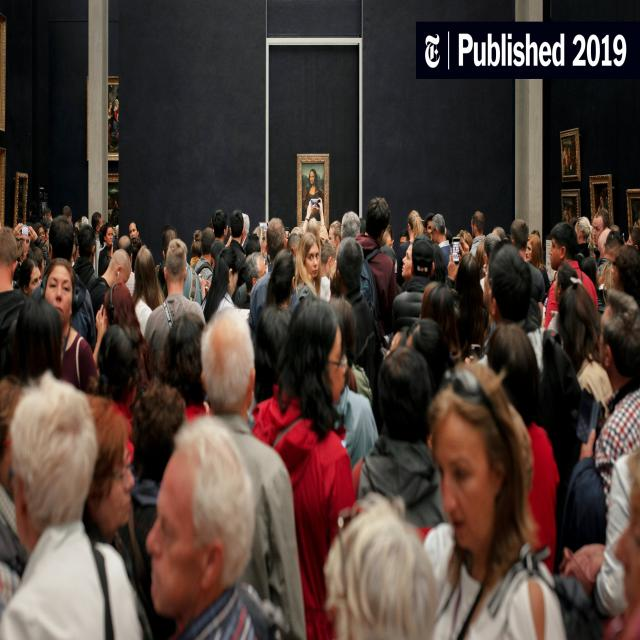Tablo: (301, 162, 325, 222), (593, 183, 610, 222), (562, 136, 577, 176), (562, 196, 578, 227), (16, 177, 26, 226)
